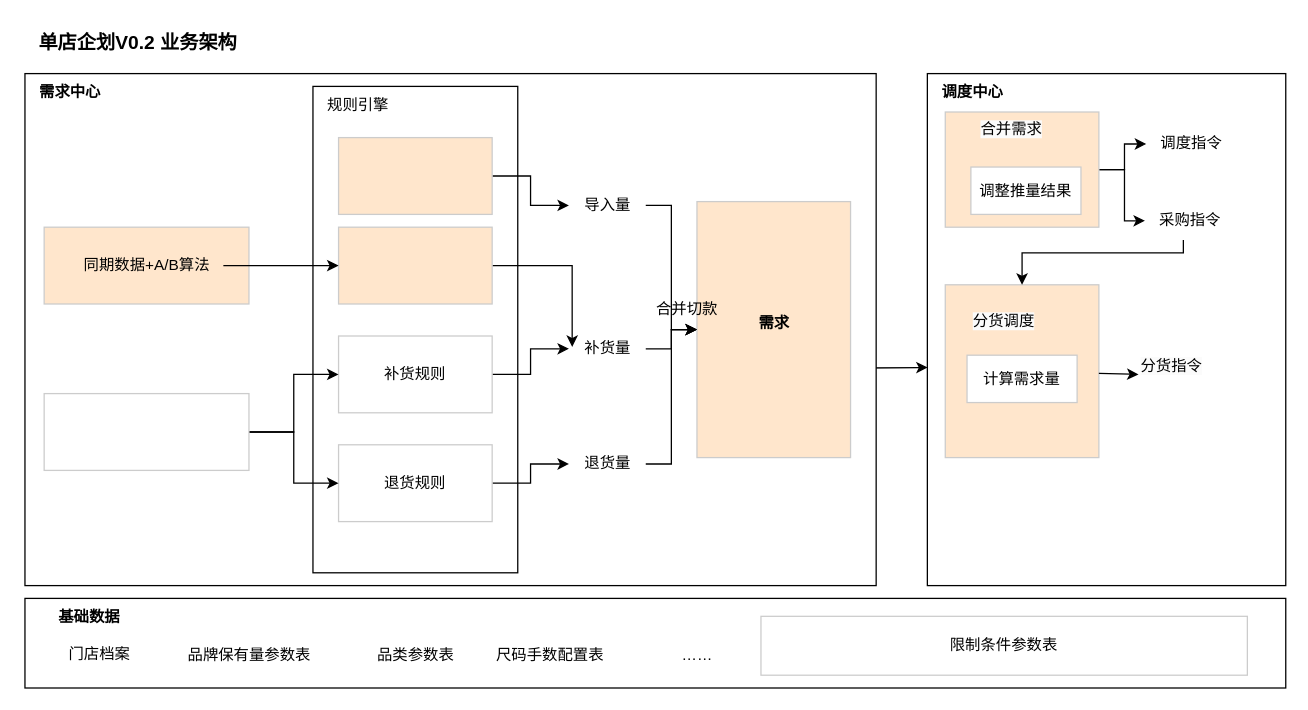
Image size: 1308x710. Some labels were removed from this diagram. Each missing label, with the centre of its shape:
导入规则: point (414, 175)
标签引擎: point (146, 431)
补货规则1: point (414, 265)
